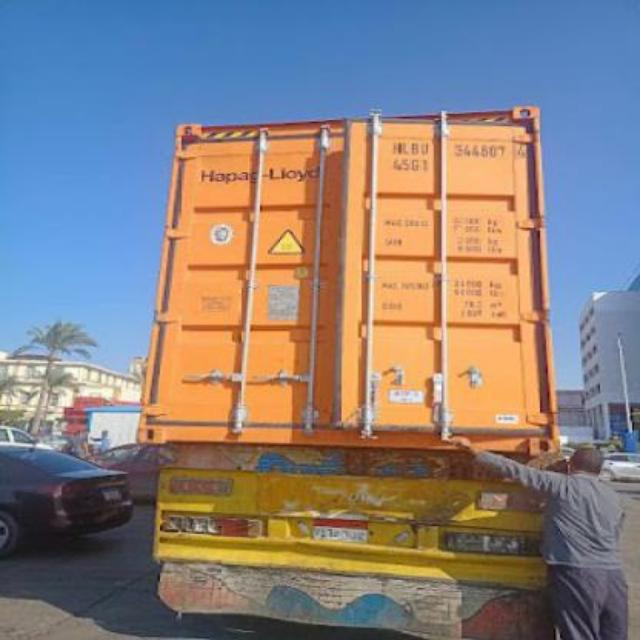0: (488, 142, 496, 162)
3: (452, 141, 462, 159)
4: (512, 141, 528, 159), (462, 142, 472, 160), (472, 144, 480, 160)
6: (480, 144, 488, 160)
7: (496, 140, 506, 162)
B: (410, 142, 420, 154)
H: (392, 140, 402, 156)
L: (400, 140, 410, 156)
U: (420, 139, 430, 157)
